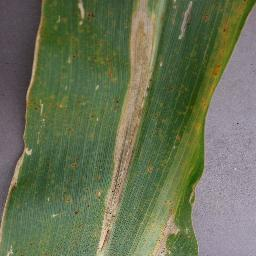Corn_Blight: (211, 0, 256, 82), (124, 0, 169, 74), (117, 75, 156, 133), (18, 83, 47, 146), (102, 162, 135, 213), (192, 84, 219, 145), (28, 0, 47, 83), (152, 209, 184, 256), (93, 213, 120, 256), (4, 146, 34, 184), (0, 185, 22, 233), (109, 134, 142, 162), (176, 0, 197, 43), (69, 0, 97, 29), (46, 95, 75, 114), (92, 53, 118, 66), (0, 244, 16, 256), (175, 130, 188, 144), (104, 68, 115, 84), (60, 194, 77, 204), (147, 162, 155, 177), (88, 111, 99, 120), (68, 53, 79, 61), (69, 211, 81, 216)
